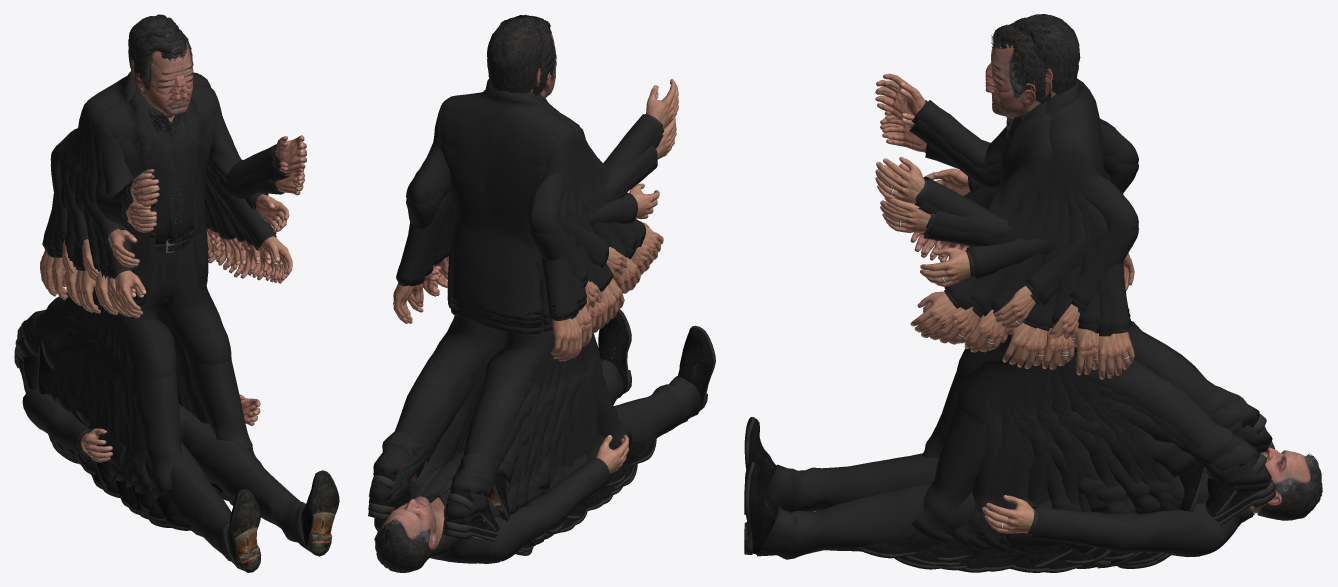
Rendered from npc.glb.
3 renders of one model, left to right at view 1: azimuth 30°, elevation 25°; view 2: azimuth 150°, elevation 25°; view 3: azimuth 270°, elevation 25°, orthographic. The views are drawn at different scales.
Size of the model in its own units: 0.698 by 1.81 by 1.8.
7 materials, 7 textured.
